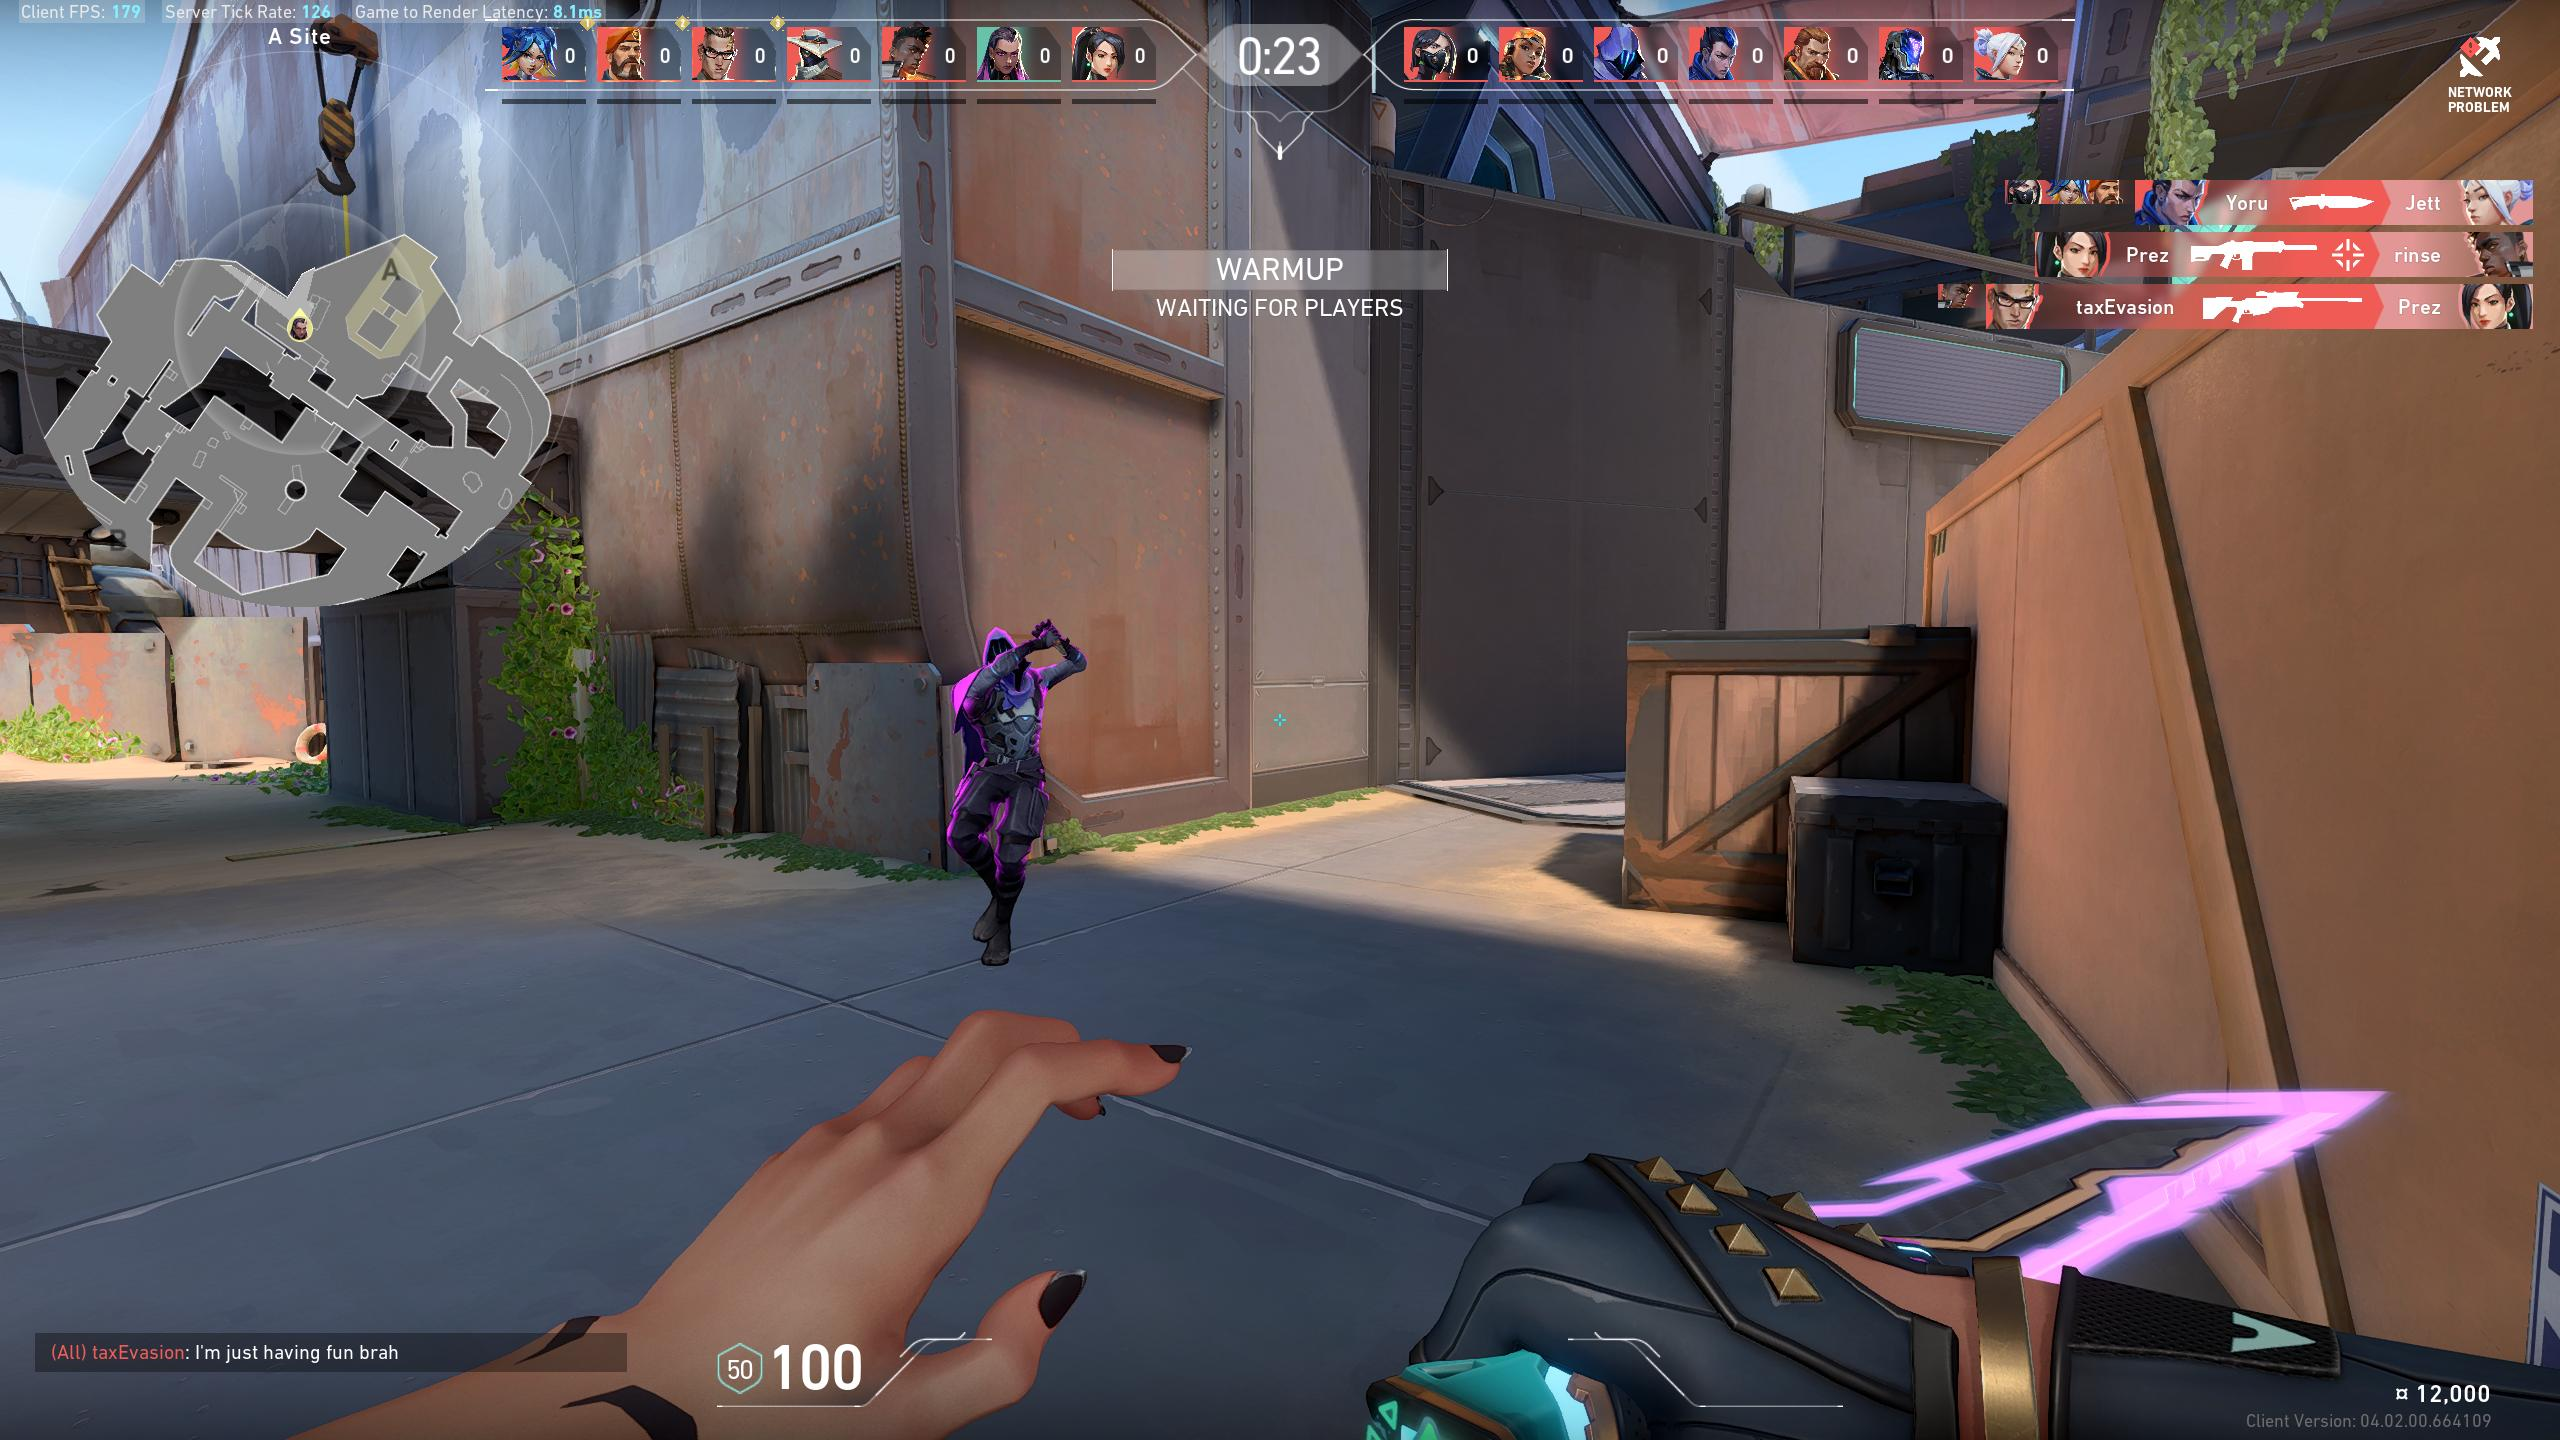enemyBody: (978, 684, 1027, 765)
enemyHead: (986, 638, 1016, 677)
